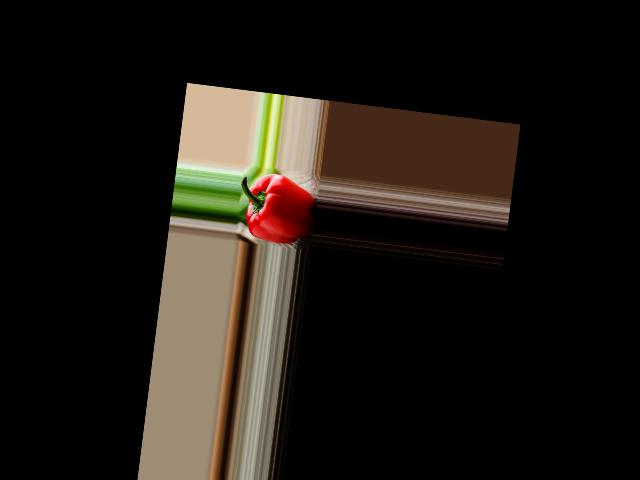bell_pepper: (236, 168, 321, 245)
